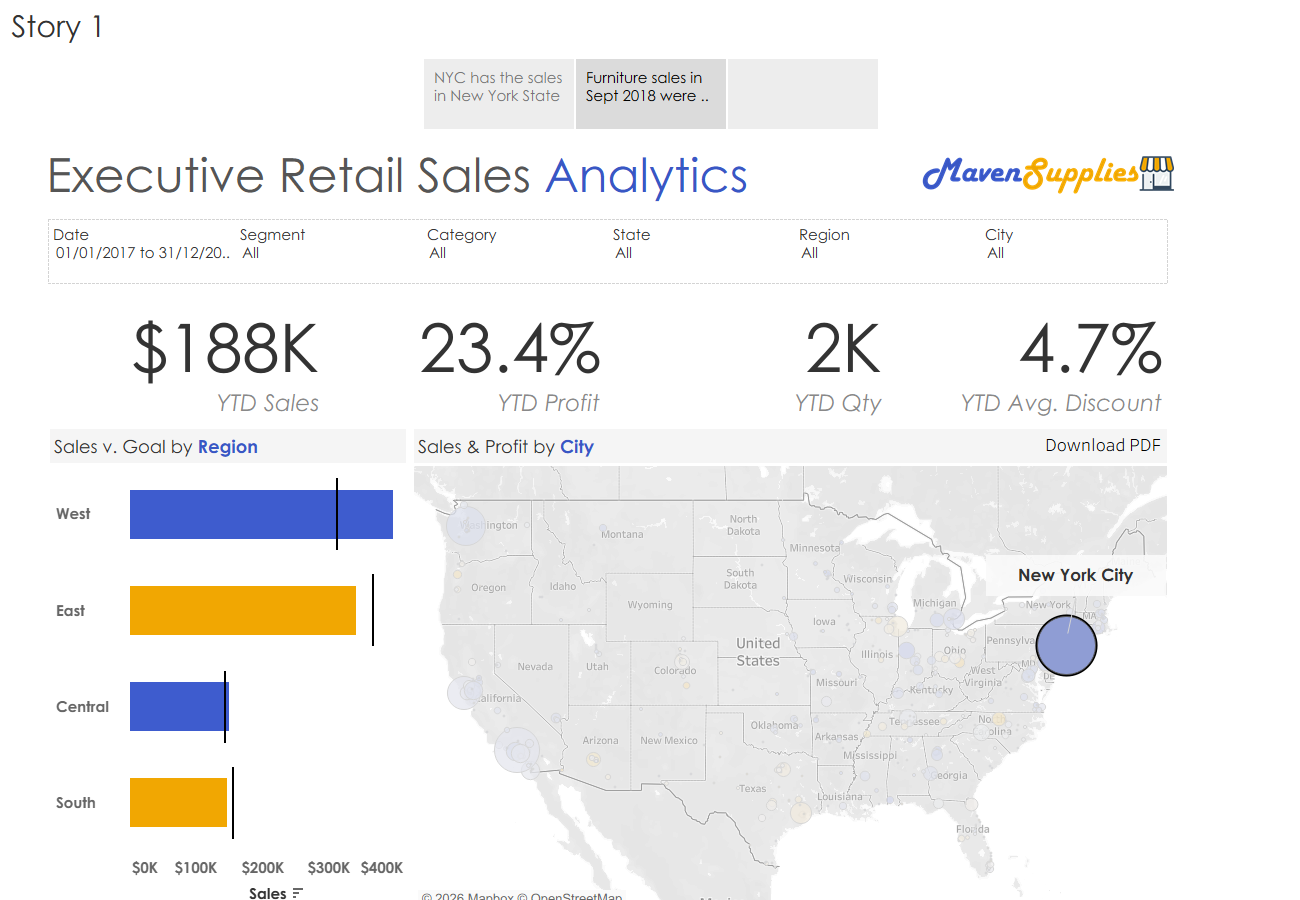

The dashboard page shown, as its layout file describes it:
{"tool":"tableau","page":{"name":"Executive Dashboard","canvas":[1200,1200],"ordinal":0},"visuals":[{"type":"blank","box":[0,0,1200,90]},{"type":"text","box":[35,20,751,58]},{"type":"image","param":"Image/Maven Supplies Logo.png","box":[910,25,256,57]},{"type":"filter","title":"Treemap - Sales by Sub-Category","param":"[federated.0nayi0l1egsd8t18wtyq110iw3qj].[none:Order Date (MDY):qk]","box":[41,95,187,63]},{"type":"filter","title":"Treemap - Sales by Sub-Category","param":"[federated.0nayi0l1egsd8t18wtyq110iw3qj].[none:Segment:nk]","box":[228,95,187,63]},{"type":"filter","title":"Treemap - Sales by Sub-Category","param":"[federated.0nayi0l1egsd8t18wtyq110iw3qj].[none:Category:nk]","box":[415,95,186,63]},{"type":"filter","title":"Treemap - Sales by Sub-Category","param":"[federated.0nayi0l1egsd8t18wtyq110iw3qj].[none:State:nk]","box":[601,95,186,63]},{"type":"filter","title":"Treemap - Sales by Sub-Category","param":"[federated.0nayi0l1egsd8t18wtyq110iw3qj].[none:Region:nk]","box":[787,95,186,63]},{"type":"filter","title":"Bars - Sales v. Goal","param":"[federated.0nayi0l1egsd8t18wtyq110iw3qj].[none:City:nk]","box":[973,95,186,63]},{"type":"worksheet","title":"BAN - YTD Sales","mark":"Automatic","box":[38,175,282,125]},{"type":"worksheet","title":"BAN - YTD Profit","mark":"Automatic","box":[320,175,281,125]},{"type":"worksheet","title":"BAN - YTD Qty","mark":"Automatic","box":[601,175,281,125]},{"type":"worksheet","title":"BAN - YTD Avg. Discount","mark":"Automatic","box":[882,175,281,125]},{"type":"worksheet","title":"Bars - Sales v. Goal","mark":"Automatic","rows":["Region"],"cols":["Sales","Goal"],"box":[38,300,364,489]},{"type":"worksheet","title":"Map - Sales & Profit","mark":"Automatic","box":[402,300,761,489]},{"type":"dashboard-object","box":[1028,309,134,21]},{"type":"worksheet","title":"Treemap - Sales by Sub-Category","mark":"Automatic","rows":["Category"],"box":[38,789,364,351]},{"type":"worksheet","title":"Bar Line - Monthly Sales Trend","mark":"Bar","rows":["Sales","Profit"],"cols":["Order Date (MDY)"],"box":[402,789,761,351]}]}

Visuals, with their boxes on the page's 1200x1200 design canvas (x1, y1, x2, y2). These are canvas units, not pixel positions in the 1300x900 screenshot, which may show the page scaled, cropped or inside an application window:
blank: 0 0 1200 90
text: 35 20 786 78
image: 910 25 1166 82
"Treemap - Sales by Sub-Category" filter: 41 95 228 158
"Treemap - Sales by Sub-Category" filter: 228 95 415 158
"Treemap - Sales by Sub-Category" filter: 415 95 601 158
"Treemap - Sales by Sub-Category" filter: 601 95 787 158
"Treemap - Sales by Sub-Category" filter: 787 95 973 158
"Bars - Sales v. Goal" filter: 973 95 1159 158
"BAN - YTD Sales" worksheet: 38 175 320 300
"BAN - YTD Profit" worksheet: 320 175 601 300
"BAN - YTD Qty" worksheet: 601 175 882 300
"BAN - YTD Avg. Discount" worksheet: 882 175 1163 300
"Bars - Sales v. Goal" worksheet: 38 300 402 789
"Map - Sales & Profit" worksheet: 402 300 1163 789
dashboard-object: 1028 309 1162 330
"Treemap - Sales by Sub-Category" worksheet: 38 789 402 1140
"Bar Line - Monthly Sales Trend" worksheet (Bar marks): 402 789 1163 1140
